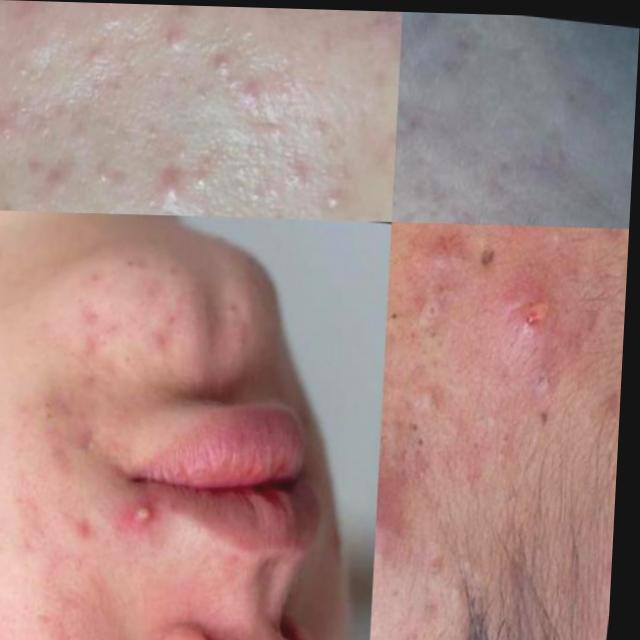8: (509, 276, 591, 330), (381, 487, 418, 550)
9: (122, 488, 173, 541)
blackheads: (62, 295, 126, 376), (70, 405, 113, 475), (59, 512, 120, 551)
dark spot: (478, 331, 582, 402), (416, 279, 469, 354), (404, 408, 442, 463), (389, 282, 411, 337)
